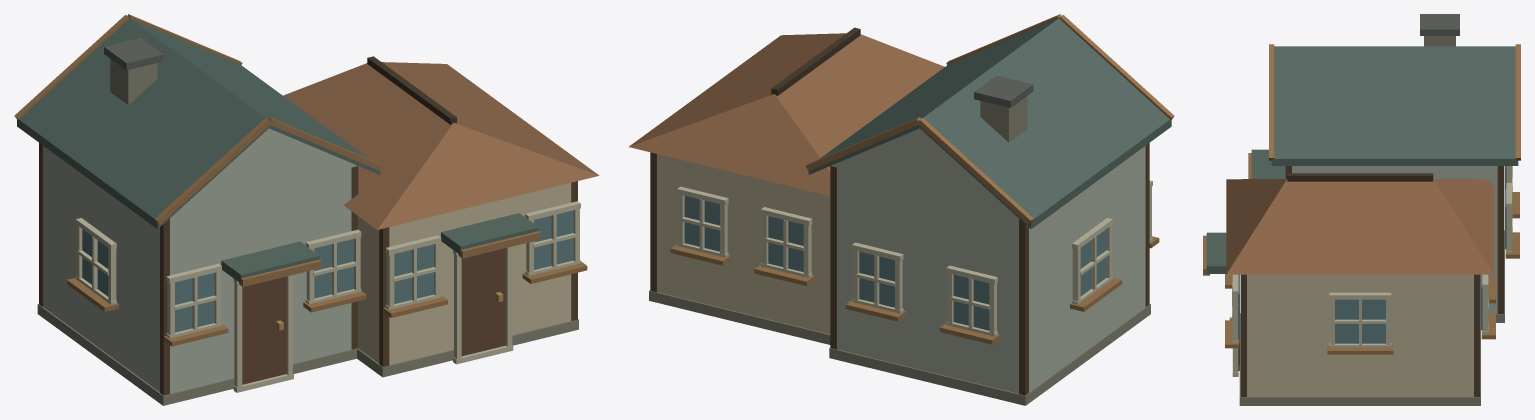
The model's file is Building_Settlement_StaggeredDuplex_001.glb.
The picture shows the model from 3 angles, left to right: view 1: azimuth 30°, elevation 25°; view 2: azimuth 150°, elevation 25°; view 3: azimuth 270°, elevation 25°; orthographic projection. The views are drawn at different scales.
Parts seen in each view (by area): view 1: Building_Settlement_StaggeredDuplex_001; view 2: Building_Settlement_StaggeredDuplex_001; view 3: Building_Settlement_StaggeredDuplex_001.
Part boxes in pixels (x1,y1,x2,y2): Building_Settlement_StaggeredDuplex_001: [14, 14, 599, 405]; Building_Settlement_StaggeredDuplex_001: [629, 14, 1174, 405]; Building_Settlement_StaggeredDuplex_001: [1203, 14, 1520, 405].
Size of the model in its own units: 8 by 5.06 by 5.99.
